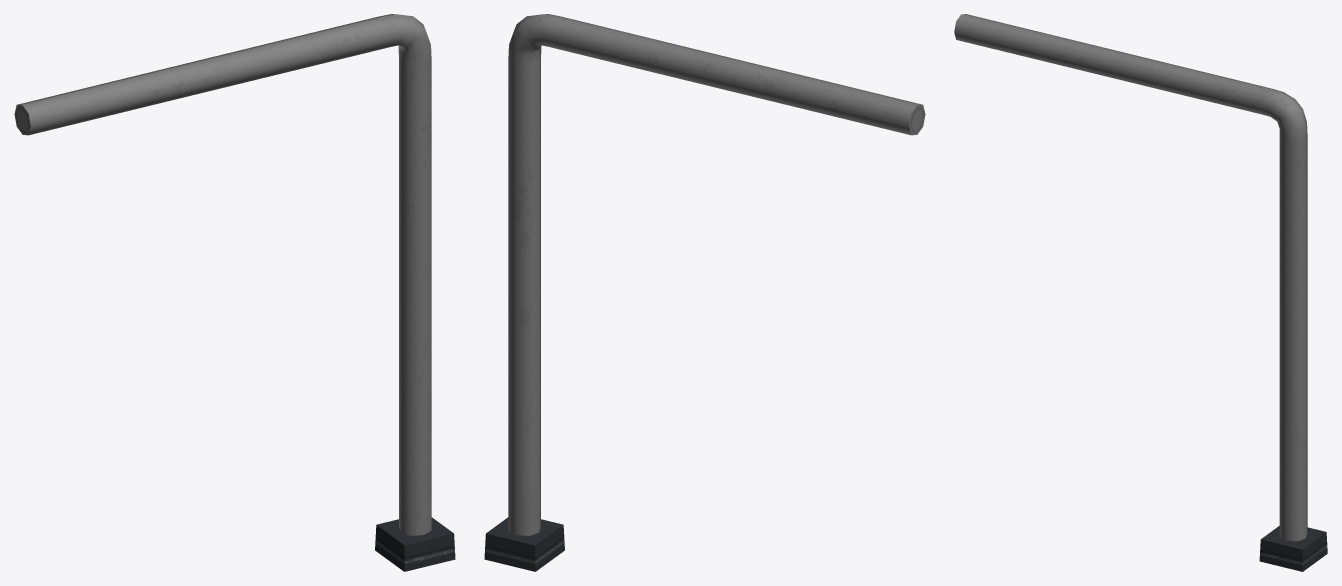
The model's file is GuardRail_02_End_L1.fbx.
The picture shows the model from 3 angles, left to right: view 1: azimuth 30°, elevation 25°; view 2: azimuth 150°, elevation 25°; view 3: azimuth 330°, elevation 25°; orthographic projection. The views are drawn at different scales.
Parts seen in each view (by area): view 1: GuardRail_02_End_L1; view 2: GuardRail_02_End_L1; view 3: GuardRail_02_End_L1.
Part boxes in pixels (<box>): GuardRail_02_End_L1: <box>14,14,455,571</box>; GuardRail_02_End_L1: <box>484,14,925,571</box>; GuardRail_02_End_L1: <box>954,14,1327,571</box>.
Size of the model in its own units: 79.88 by 99.57 by 9.76.
